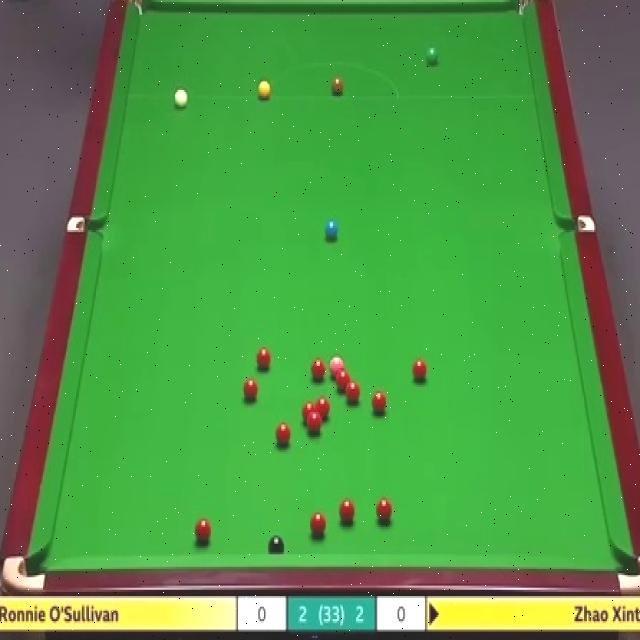black-ball: (270, 534, 288, 554)
blue-ball: (324, 220, 339, 238)
brown-ball: (331, 77, 345, 100)
green-ball: (427, 46, 437, 62)
pink-ball: (330, 356, 344, 376)
red-ball: (193, 518, 212, 544), (339, 495, 355, 525), (315, 397, 332, 423), (310, 512, 327, 538), (412, 356, 428, 381), (278, 422, 294, 446), (377, 499, 393, 522), (242, 380, 259, 401), (257, 346, 270, 372), (308, 412, 322, 435), (371, 393, 387, 412), (346, 383, 359, 406), (310, 358, 324, 379), (336, 369, 350, 389), (302, 403, 316, 422)
white-ball: (173, 88, 190, 110)
yellow-ball: (258, 79, 271, 101)
